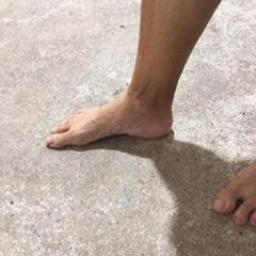Medial View -Right Foot-: (36, 71, 182, 158)
